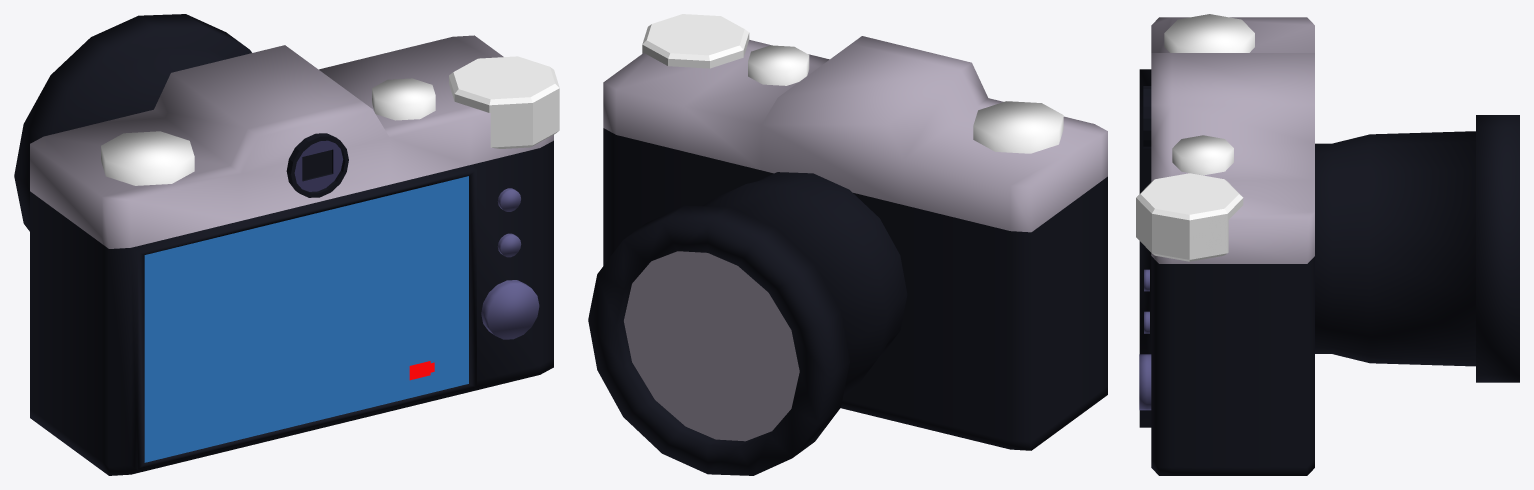
File: camera.glb
The picture shows the model from 3 angles, left to right: view 1: azimuth 30°, elevation 25°; view 2: azimuth 150°, elevation 25°; view 3: azimuth 270°, elevation 25°; orthographic projection. The views are drawn at different scales.
Parts seen in each view (by area): view 1: camera, camera.front, camera.dial; view 2: camera.front, camera, camera.dial; view 3: camera.front, camera, camera.dial.
Part boxes in pixels (x1,y1,x2,y2): camera: (101,78,553,475); camera.front: (14,14,503,470); camera.dial: (449,56,559,148); camera.front: (588,43,1100,475); camera: (746,36,1107,399); camera.dial: (642,14,749,68); camera.front: (1172,17,1519,475); camera: (1139,14,1254,475); camera.dial: (1136,173,1243,261).
Size of the model in its own units: 0.5914 by 0.3756 by 0.4561.
3 materials, 2 textured.
